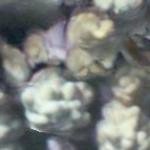alive: (2, 4, 146, 148)
